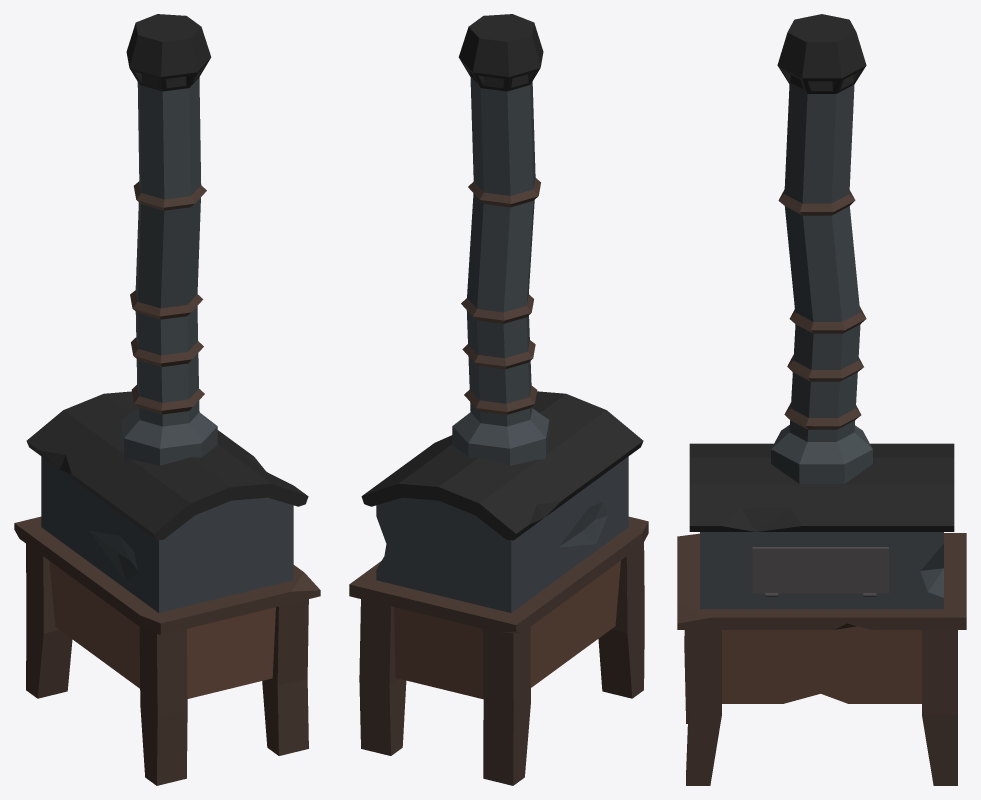
File: smelter_01.glb
3 renders of one model, left to right at view 1: azimuth 30°, elevation 25°; view 2: azimuth 150°, elevation 25°; view 3: azimuth 270°, elevation 25°, orthographic. The views are drawn at different scales.
Parts seen in each view (by area): view 1: Smelter.001 -convcol; view 2: Smelter.001 -convcol; view 3: Smelter.001 -convcol, Furnace_Door.
Boxes of the visible parts, x1,y1,x2,y2 form: Smelter.001 -convcol: (14,14,320,785); Smelter.001 -convcol: (349,14,648,785); Smelter.001 -convcol: (677,14,966,785); Furnace_Door: (752,547,888,596).
Bounding box in the file's own units: 0.769 × 3.04 × 1.11.
